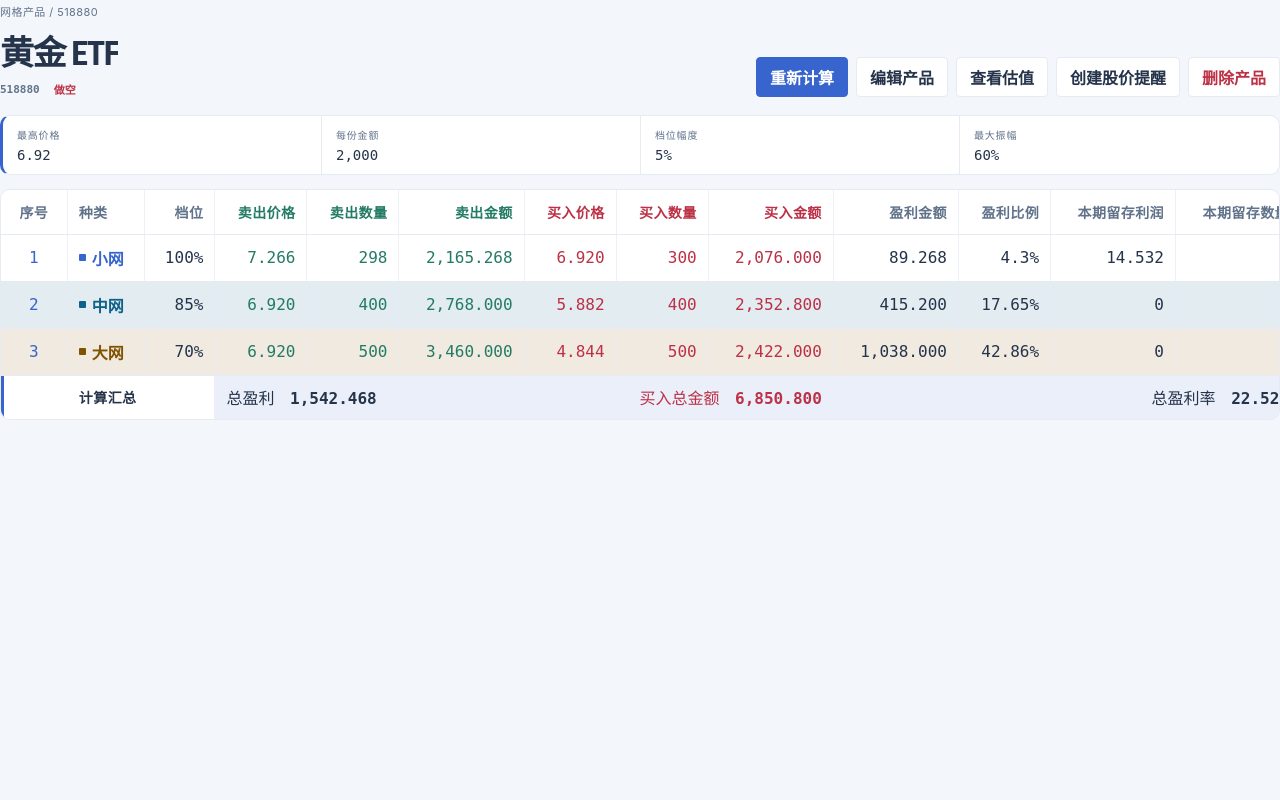
Scenario: GridDetailView › shows sell columns and inspector values before buy values for short products
Expected: the cells read "总盈利 1,542.468", "买入总金额 6,850.800", "总盈利率 22.52%", in this order, [215,375,524,419]; [524,375,833,419]; [833,375,1279,419]
Click the button named "查看第 1 笔明细": (34,258) [17,242,51,272]
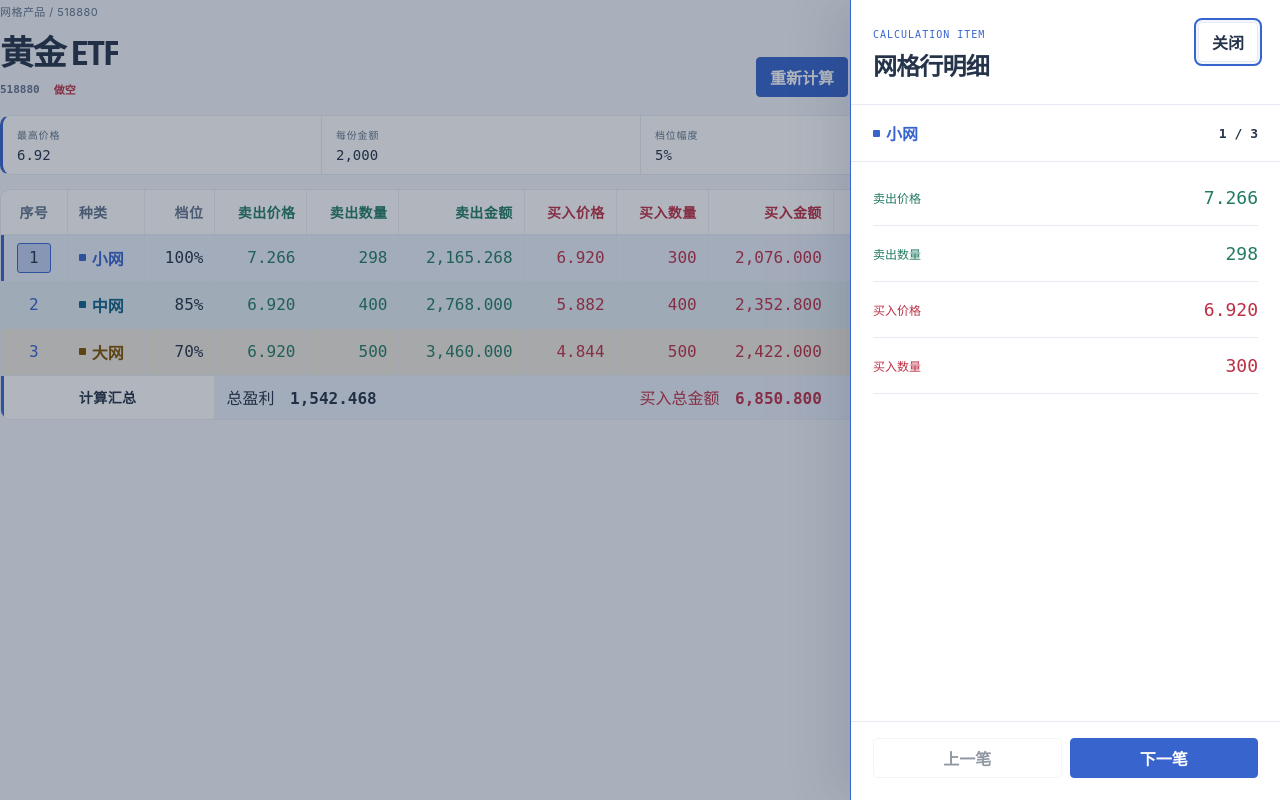
Expected: the dialog "网格行明细" shows "7.266", [1204,187,1258,208]
Expected: the dialog "网格行明细" shows "6.920", [1204,299,1258,320]
